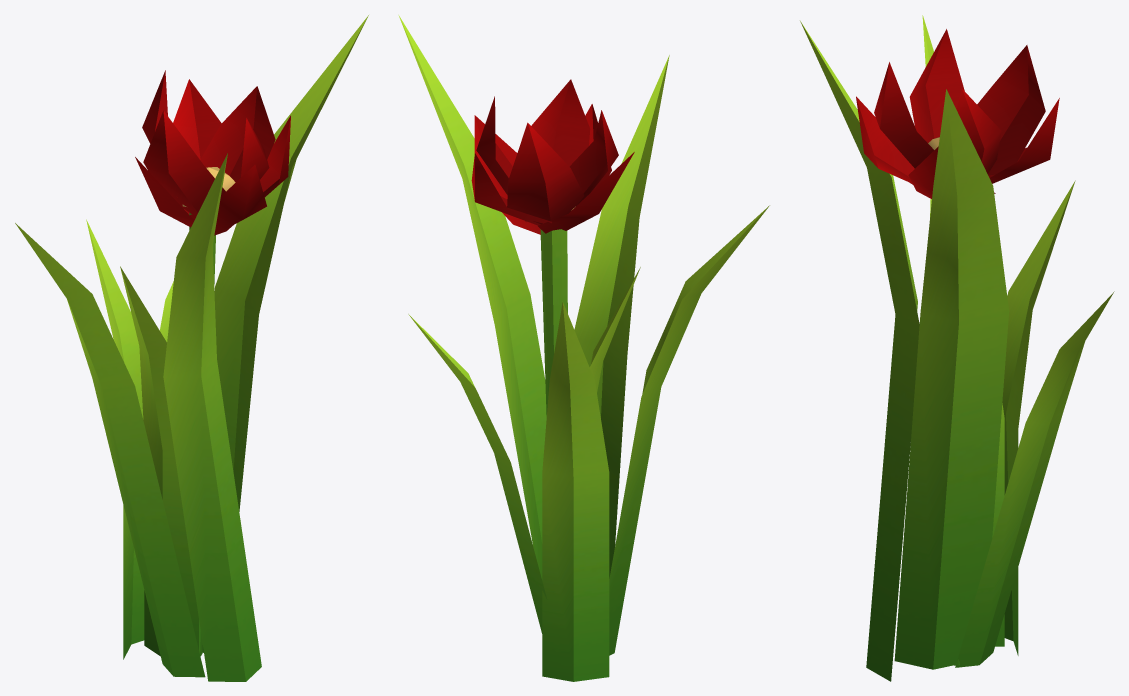
The picture shows the model from 3 angles, left to right: view 1: azimuth 30°, elevation 25°; view 2: azimuth 150°, elevation 25°; view 3: azimuth 270°, elevation 25°; orthographic projection. The views are drawn at different scales.
Visible parts, largest first — view 1: FlowerRed; view 2: FlowerRed; view 3: FlowerRed.
Boxes of the visible parts, box(x1,y1,x2,y2) form: FlowerRed: box(15, 15, 368, 681); FlowerRed: box(398, 15, 769, 681); FlowerRed: box(800, 15, 1114, 681).
Bounding box in the file's own units: 0.6018 × 0.9505 × 0.4068.
Materials: 1 (1 with a texture image).
